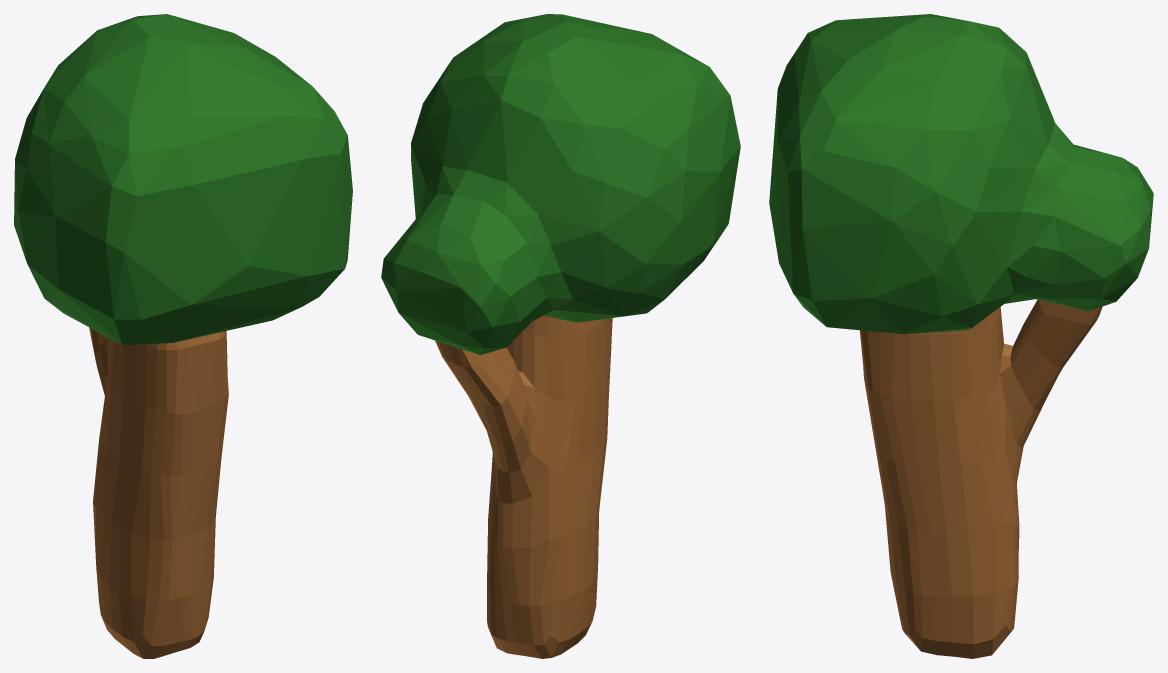
Rendered from TreeBasic 1.fbx.
The picture shows the model from 3 angles, left to right: view 1: azimuth 30°, elevation 25°; view 2: azimuth 150°, elevation 25°; view 3: azimuth 270°, elevation 25°; orthographic projection. The views are drawn at different scales.
Parts seen in each view (by area): view 1: Cube.001, Cube; view 2: Cube.001, Cube; view 3: Cube.001, Cube.
Part boxes in pixels (x1,y1,x2,y2): Cube.001: [14, 14, 352, 345]; Cube: [89, 327, 228, 658]; Cube.001: [381, 14, 740, 355]; Cube: [435, 315, 612, 658]; Cube.001: [769, 14, 1153, 334]; Cube: [859, 299, 1102, 658].
Size of the model in its own units: 611 by 1294 by 727.
